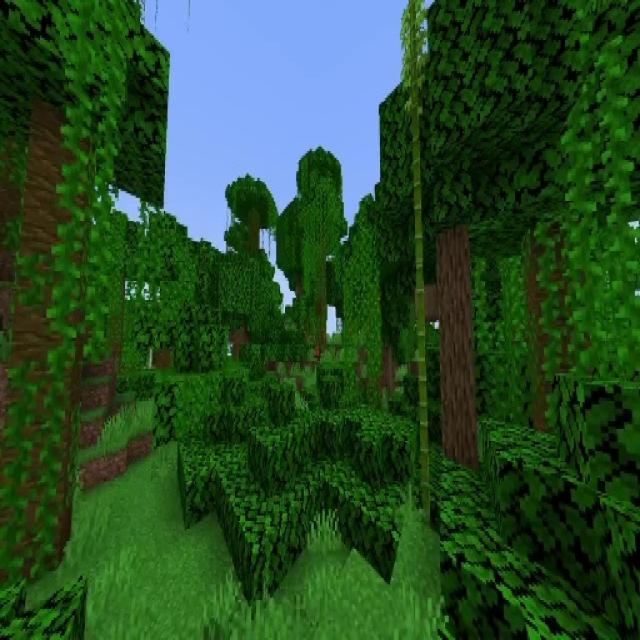jungle: (219, 174, 280, 339)
jungle_log: (0, 70, 91, 578)
oak_log: (435, 235, 480, 459)
